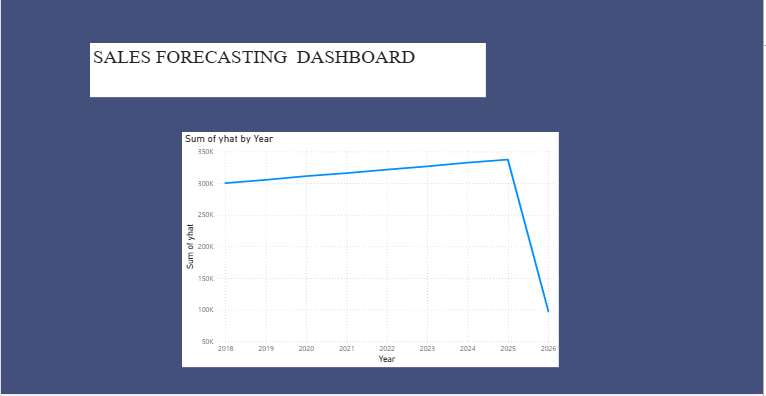

Layout of this report page (visuals, bound fields, positions):
{"tool":"powerbi","page":{"name":"Page 1","canvas":[1280,720],"ordinal":0},"visuals":[{"type":"lineChart","fields":{"Category":["prophet_forecast_next_12m.ds.Variation.Date Hierarchy.Year","prophet_forecast_next_12m.ds.Variation.Date Hierarchy.Quarter","prophet_forecast_next_12m.ds.Variation.Date Hierarchy.Month","prophet_forecast_next_12m.ds.Variation.Date Hierarchy.Day"],"Y":["Sum(prophet_forecast_next_12m.yhat)"]},"box":[304,280.5,633.3,394.8],"z":0},{"type":"textbox","box":[149.5,131,665.2,90.7],"z":1000}]}

Visuals, with their boxes on the page's 1280x720 design canvas (x1, y1, x2, y2). These are canvas units, not pixel positions in the 766x396 screenshot, which may show the page scaled, cropped or inside an application window:
lineChart - prophet_forecast_next_12m.ds.Variation.Date Hierarchy.Year x prophet_forecast_next_12m.ds.Variation.Date Hierarchy.Quarter: (x1=304, y1=280, x2=937, y2=675)
textbox: (x1=150, y1=131, x2=815, y2=222)
